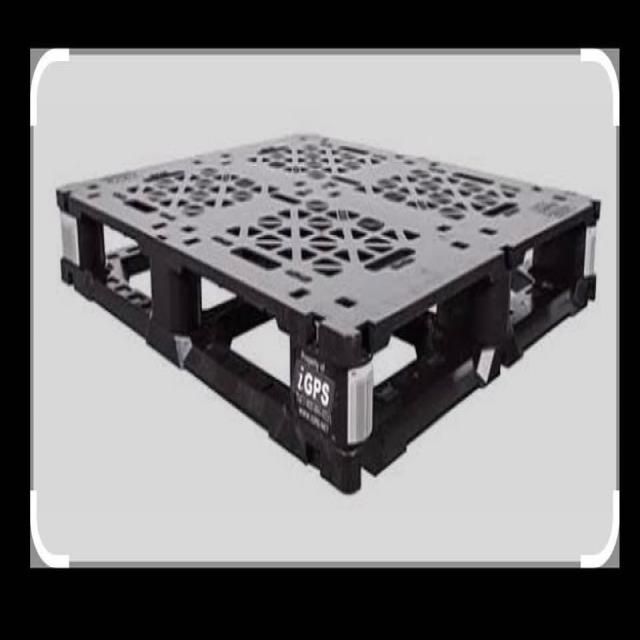igps: (45, 117, 608, 501)
